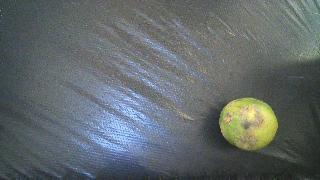DESECHO: (219, 98, 278, 150)
